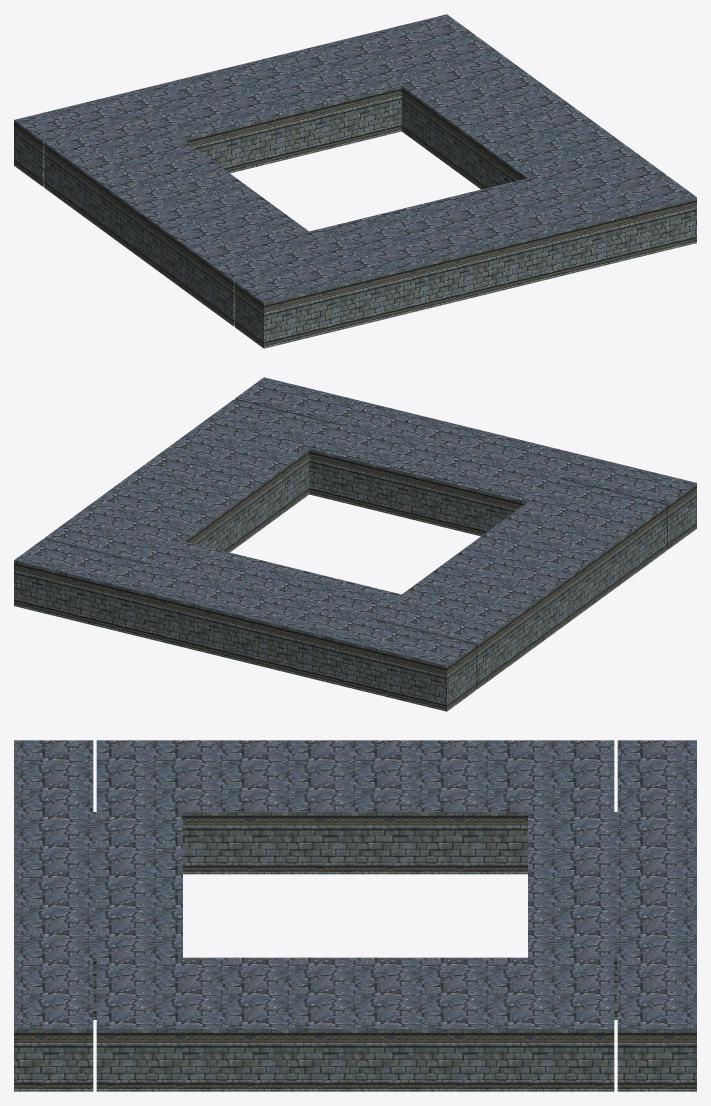
The model's file is foot.glb.
3 views of the same model, one above another, from view 1: azimuth 30°, elevation 25°; view 2: azimuth 150°, elevation 25°; view 3: azimuth 270°, elevation 25° (orthographic). The views are drawn at different scales.
Visible parts, largest first — view 1: cs; view 2: cs; view 3: cs.
Part boxes in pixels (box(x1,y1,x2,y2)): cs: box(14, 14, 696, 348); cs: box(14, 377, 696, 711); cs: box(14, 740, 696, 1091).
Bounding box in the file's own units: 990 × 100 × 990.
Materials: 3 (3 with a texture image).
